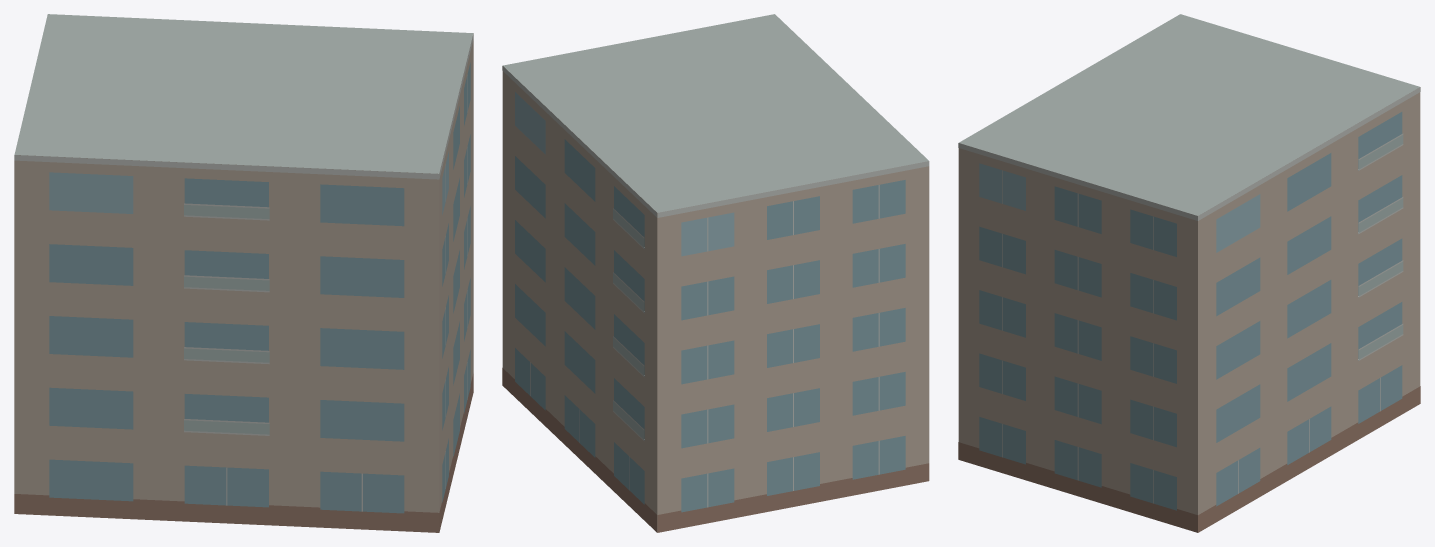
File: survey-upis-32539938.glb
3 renders of one model, left to right at view 1: azimuth 30°, elevation 25°; view 2: azimuth 150°, elevation 25°; view 3: azimuth 270°, elevation 25°, orthographic. The views are drawn at different scales.
Parts seen in each view (by area): view 1: survey-upis-32539938.tmp; view 2: survey-upis-32539938.tmp; view 3: survey-upis-32539938.tmp.
Boxes of the visible parts, x1,y1,x2,y2 form: survey-upis-32539938.tmp: [14, 14, 473, 532]; survey-upis-32539938.tmp: [502, 14, 929, 532]; survey-upis-32539938.tmp: [958, 14, 1420, 532].
Size of the model in its own units: 20.86 by 15.25 by 20.15.
